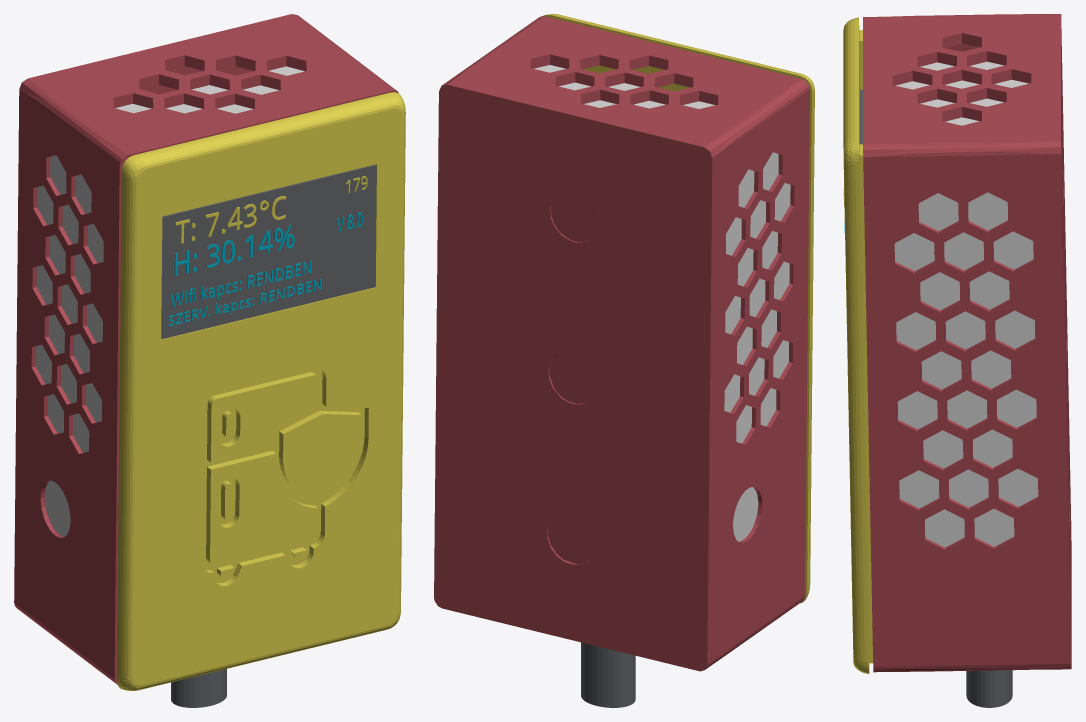
Rendered from piros_sarga.glb.
The picture shows the model from 3 angles, left to right: view 1: azimuth 30°, elevation 25°; view 2: azimuth 150°, elevation 25°; view 3: azimuth 270°, elevation 25°; orthographic projection. The views are drawn at different scales.
Visible parts, largest first — view 1: Mesh_Mesh_head_geo.001_lambert2SG.001; view 2: Mesh_Mesh_head_geo.001_lambert2SG.001; view 3: Mesh_Mesh_head_geo.001_lambert2SG.001.
Part boxes in pixels (x1=…): Mesh_Mesh_head_geo.001_lambert2SG.001: x1=14, y1=14, x2=405, y2=707; Mesh_Mesh_head_geo.001_lambert2SG.001: x1=434, y1=14, x2=814, y2=707; Mesh_Mesh_head_geo.001_lambert2SG.001: x1=843, y1=14, x2=1071, y2=707.
Size of the model in its own units: 33 by 70.15 by 23.52.
